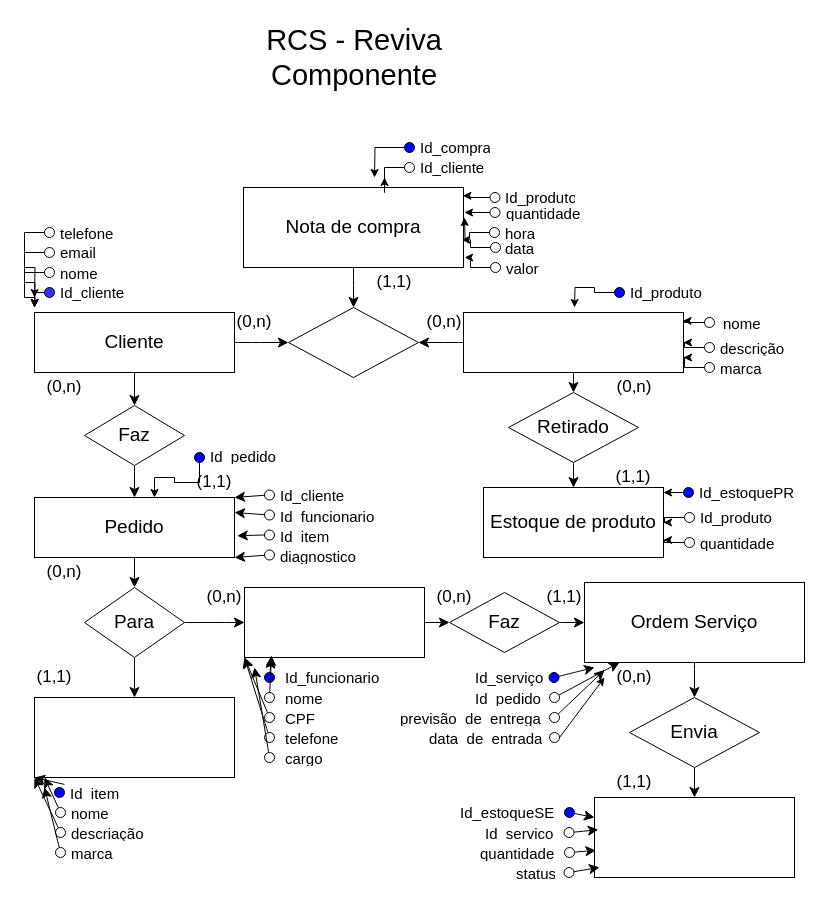
Image size: 822x899. Some labels were removed from this diagram. Here are the shapes that lost their labels. From the top down, the box of each, then its label:
(288, 306, 418, 378): Compra
(462, 312, 684, 372): Produto
(244, 586, 424, 658): Funcionário
(34, 696, 234, 778): Item Defeito
(594, 796, 794, 878): Estoque de Serviço
